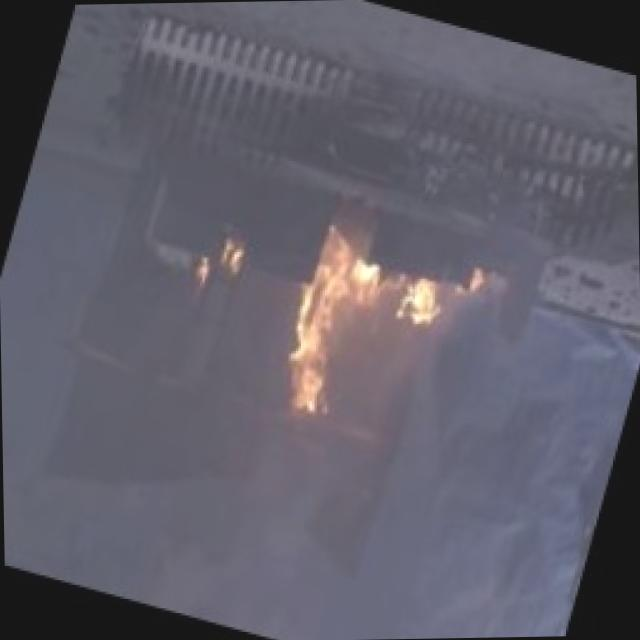fire: (250, 220, 469, 459)
